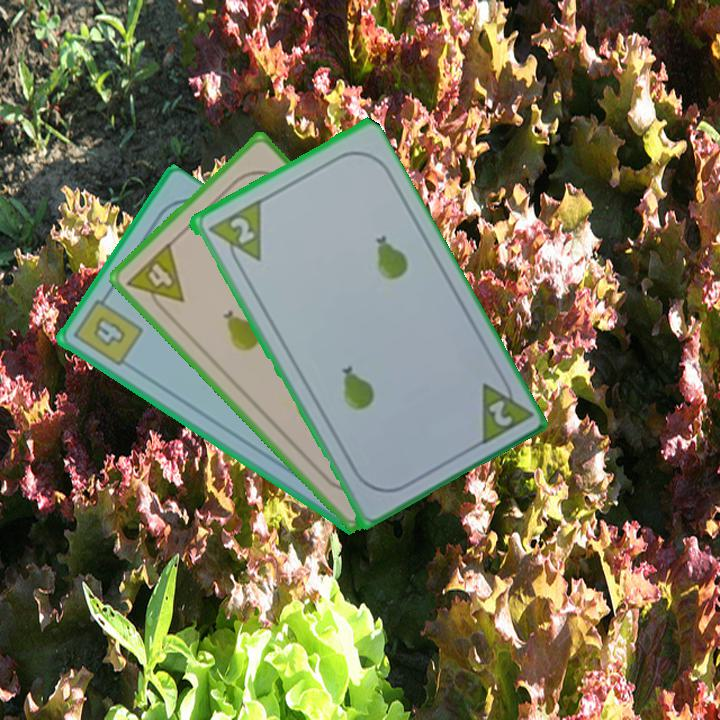2p: (225, 213, 257, 247), (484, 396, 515, 430)
4b: (70, 289, 146, 370)
4p: (123, 238, 187, 319)
